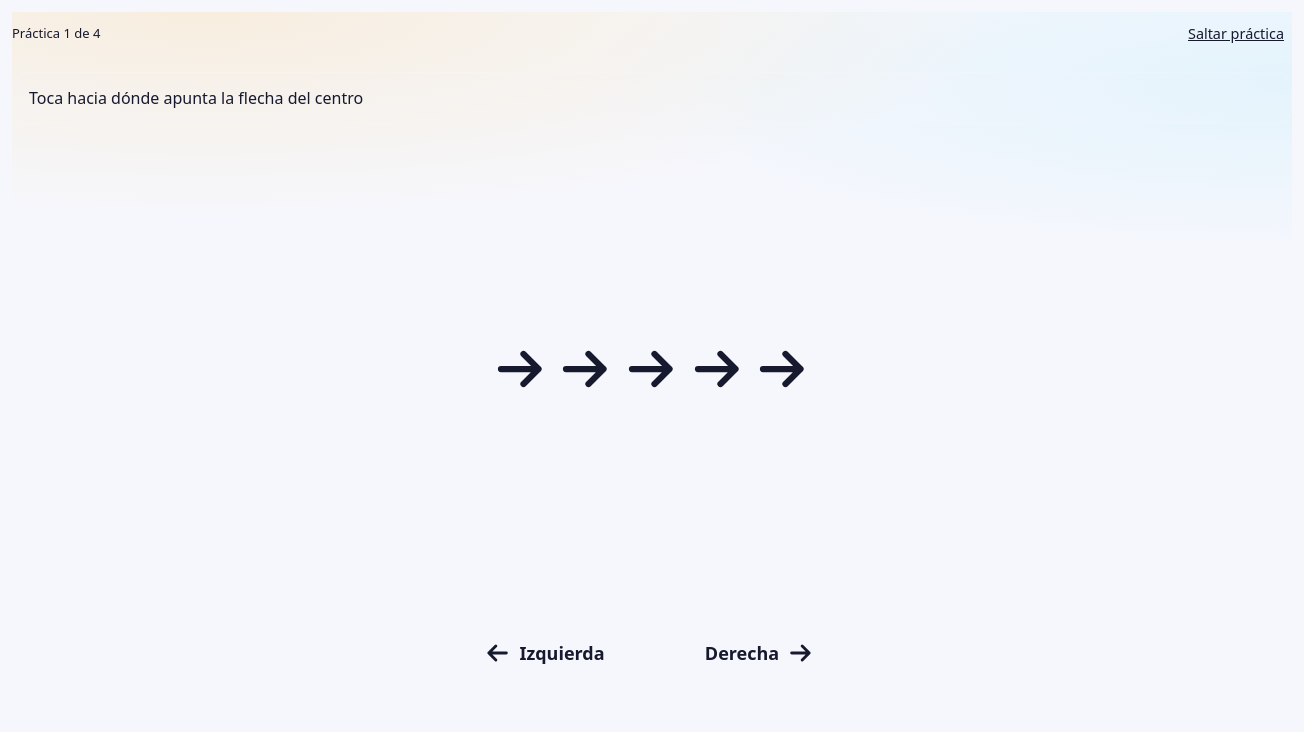
Test: answering the four rounds right completes once
Expected: the text "Práctica 1 de 4" is shown, left=12, top=24, right=100, bottom=44
Click the button "Derecha": (760, 653) left=660, top=614, right=860, bottom=692
Wait 700 ms
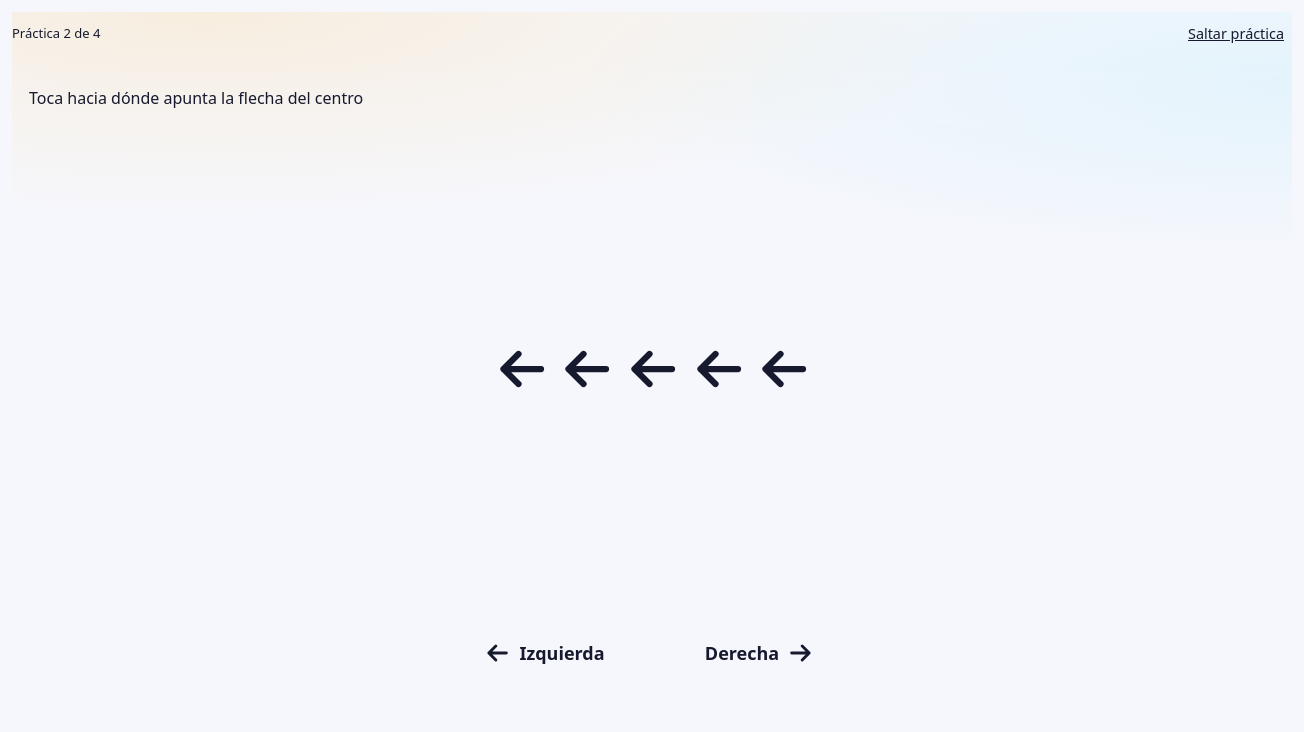
Expected: the text "¡Bien!" is shown, left=12, top=72, right=1292, bottom=124
Click the button "Izquierda": (544, 653) left=444, top=614, right=644, bottom=692
Wait 700 ms
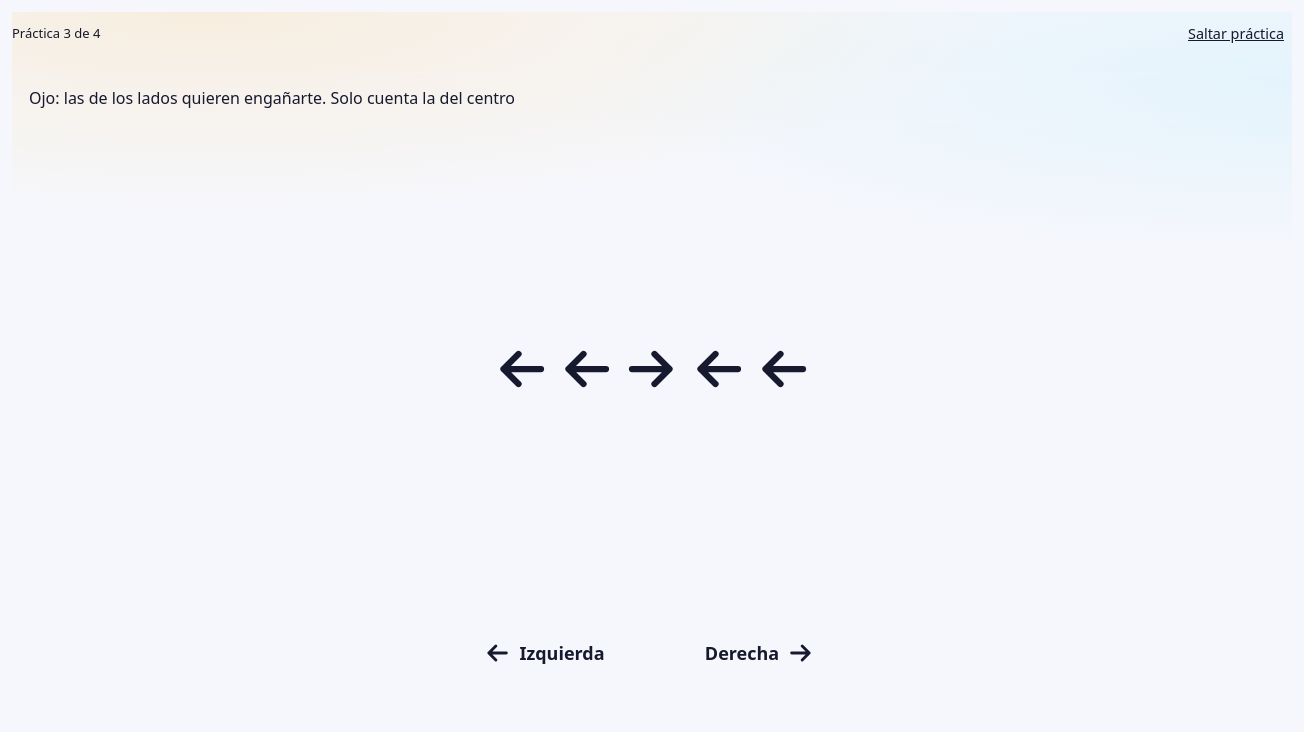
Expected: the text "¡Bien!" is shown, left=12, top=72, right=1292, bottom=124
Expected: the text "Práctica 3 de 4" is shown, left=12, top=24, right=100, bottom=44
Click the button "Derecha": (760, 653) left=660, top=614, right=860, bottom=692
Wait 700 ms
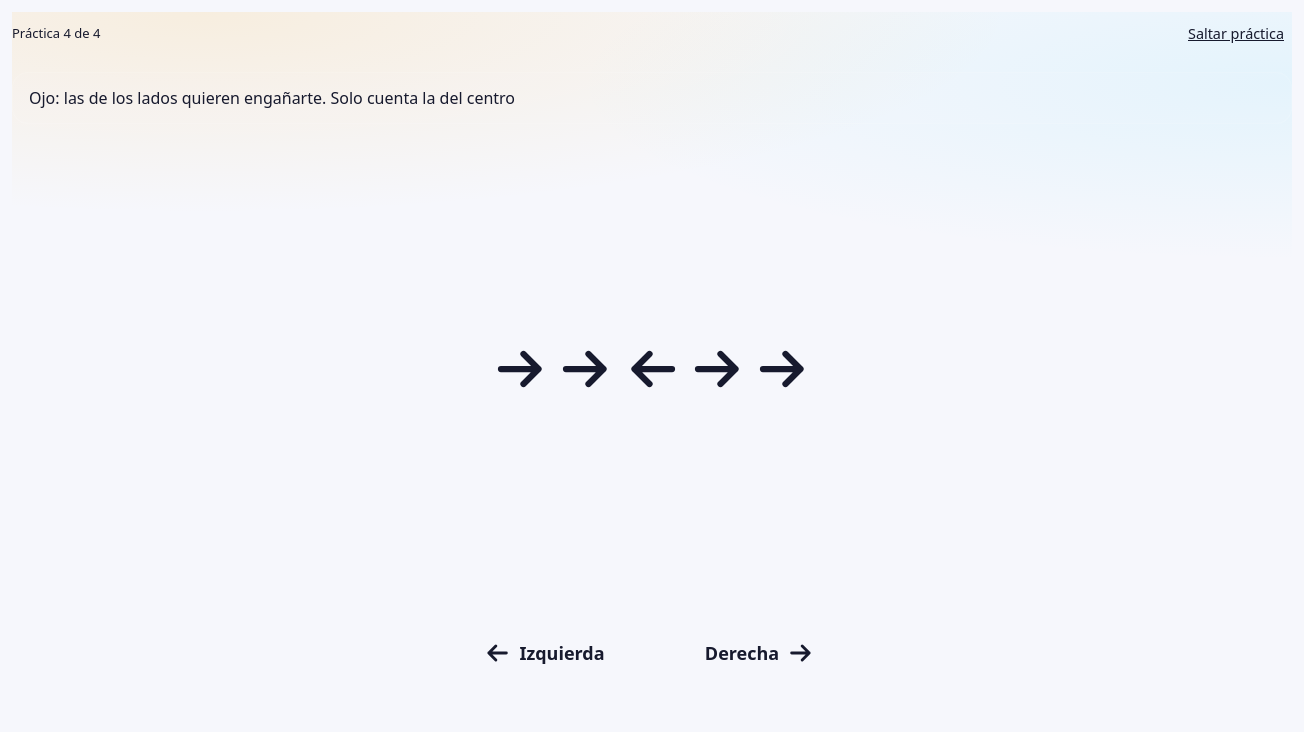
Expected: the text "¡Bien!" is shown, left=12, top=72, right=1292, bottom=124
Click the button "Izquierda": (544, 653) left=444, top=614, right=644, bottom=692
Wait 700 ms
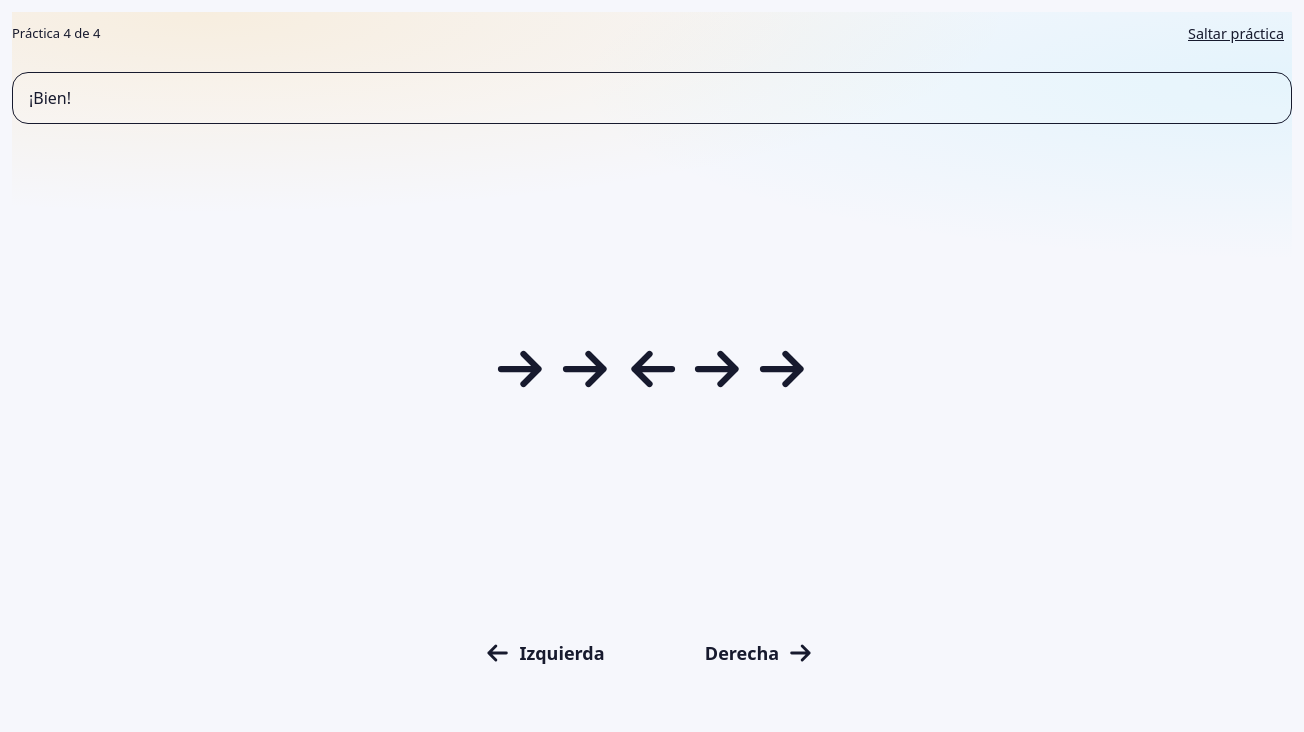
Expected: the text "¡Bien!" is shown, left=12, top=72, right=1292, bottom=124
